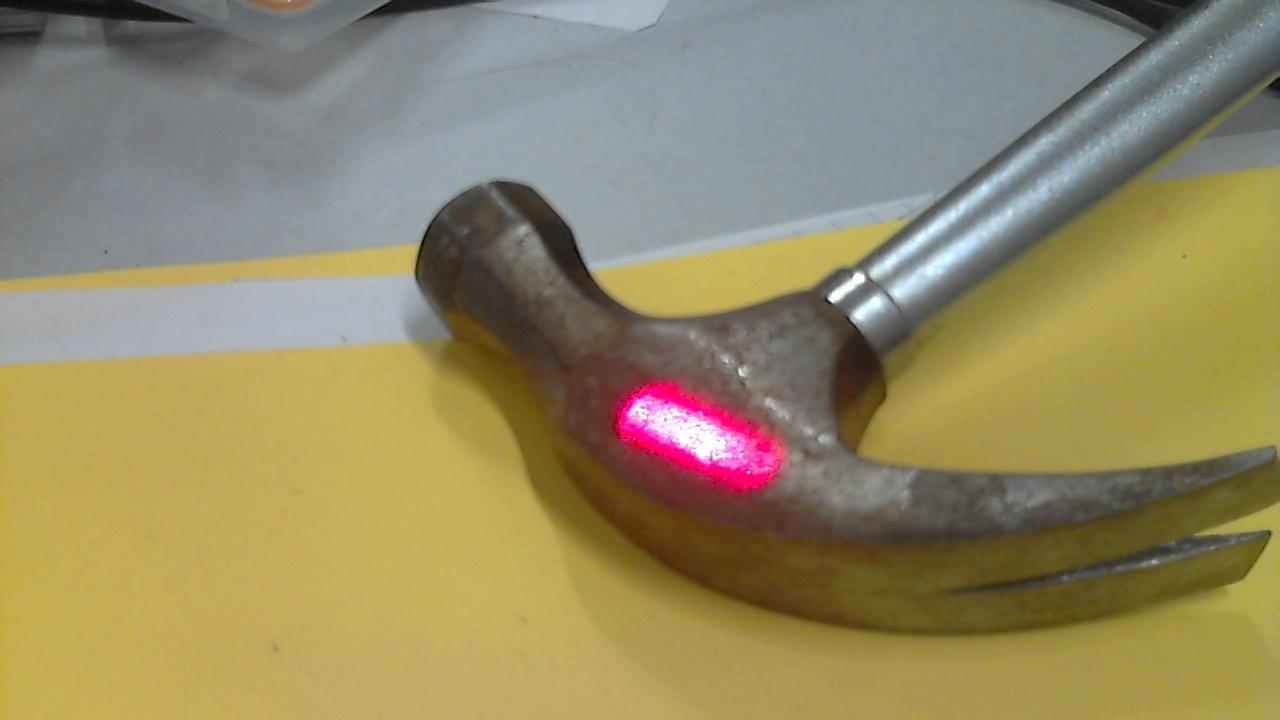Object claw hammer -Material metal - Pdfname 2LKzx9zgCNVB: (610, 377, 793, 498)
